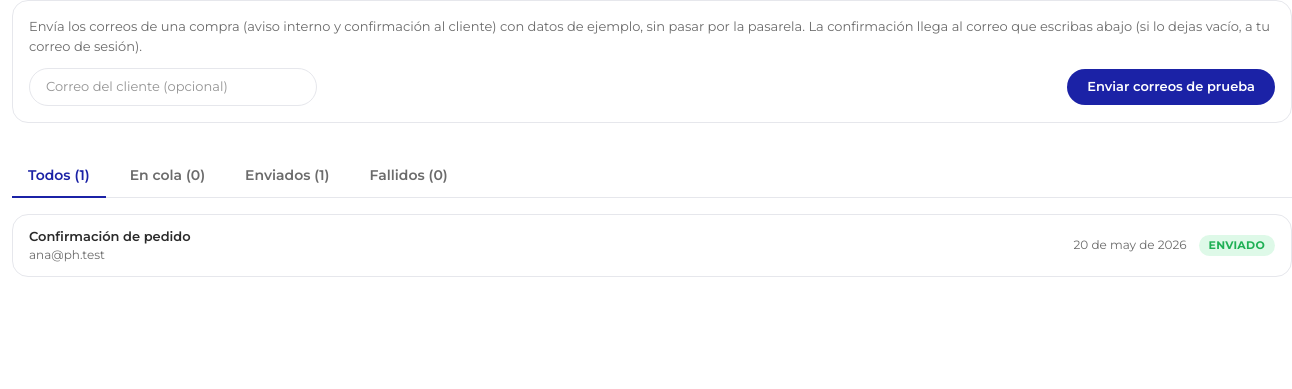
Test: EmailOutboxViewer › muestra EmptyState cuando no hay emails en el filtro activo
Click the tab "Fallidos (0)": [409, 176] box [354,154,464,198]
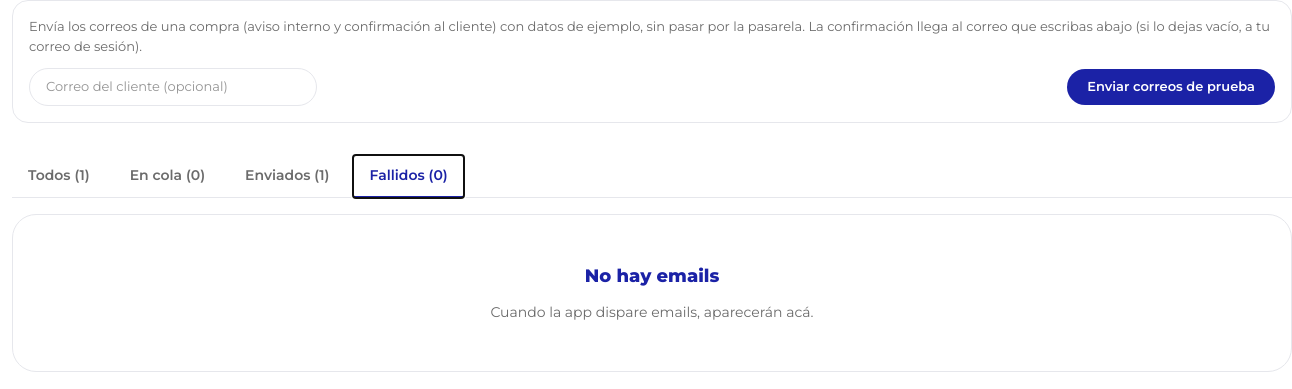
Expected: the heading "No hay emails" is shown, [585,262,719,290]
